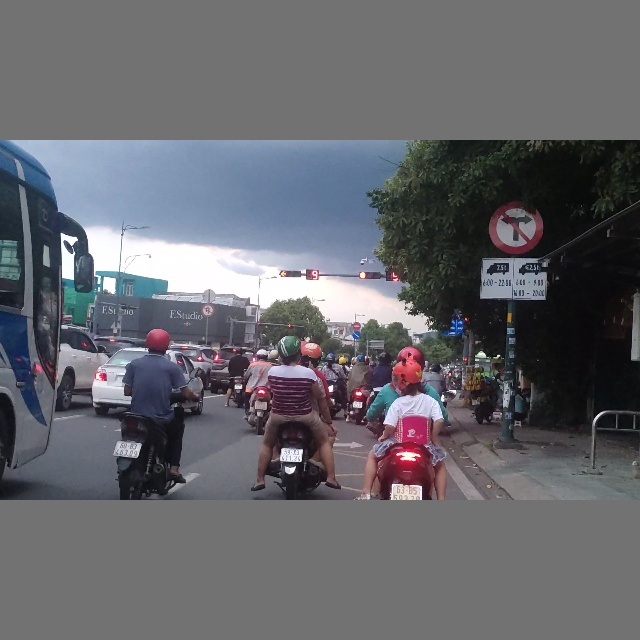P.102: (352, 322, 361, 330)
P.124a*: (201, 304, 214, 317)
P.137: (489, 200, 544, 255)
R.302a: (352, 330, 361, 339)
S.505a*Xe tai: (480, 256, 548, 300)
